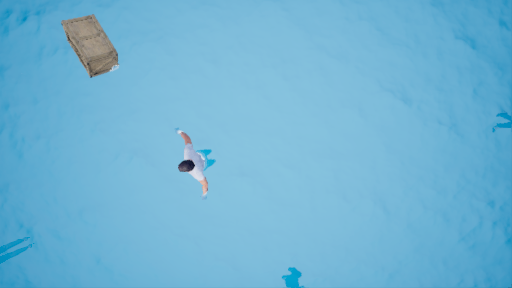person: (169, 129, 225, 200)
